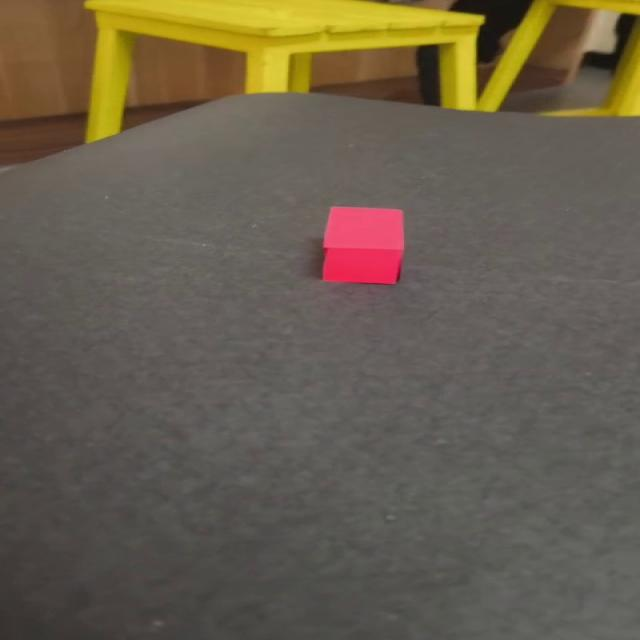red block: (320, 204, 405, 284)
